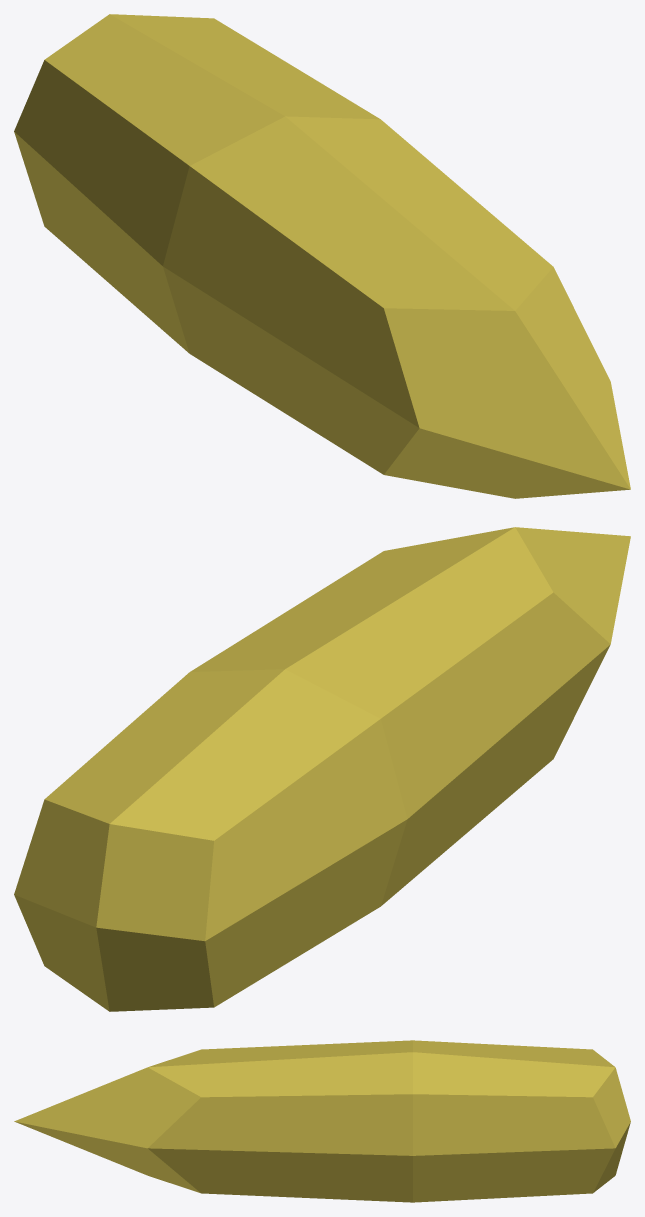
The model's file is Bullet.fbx.
3 renders of one model, top to bottom at view 1: azimuth 30°, elevation 25°; view 2: azimuth 150°, elevation 25°; view 3: azimuth 270°, elevation 25°, orthographic. The views are drawn at different scales.
Visible parts, largest first — view 1: Bullet; view 2: Bullet; view 3: Bullet.
Part boxes in pixels (x1,y1,x2,y2): Bullet: (14, 14, 630, 498); Bullet: (14, 527, 630, 1011); Bullet: (14, 1040, 630, 1202).
Bounding box in the file's own units: 25.81 × 24.23 × 97.71.
